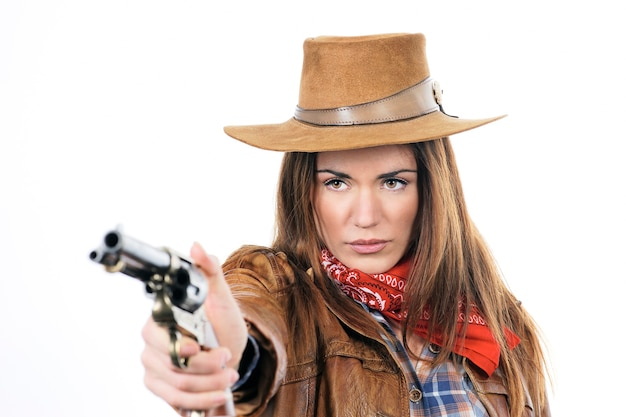gun: (86, 220, 238, 417)
